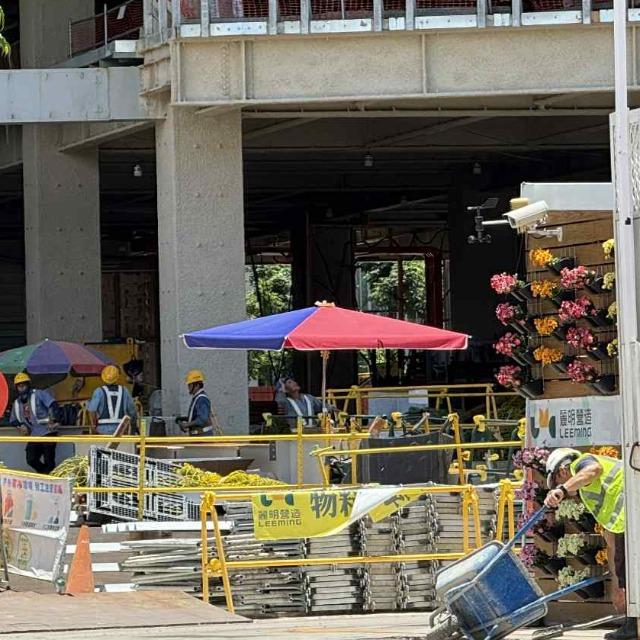Vest: (87, 385, 133, 436)
